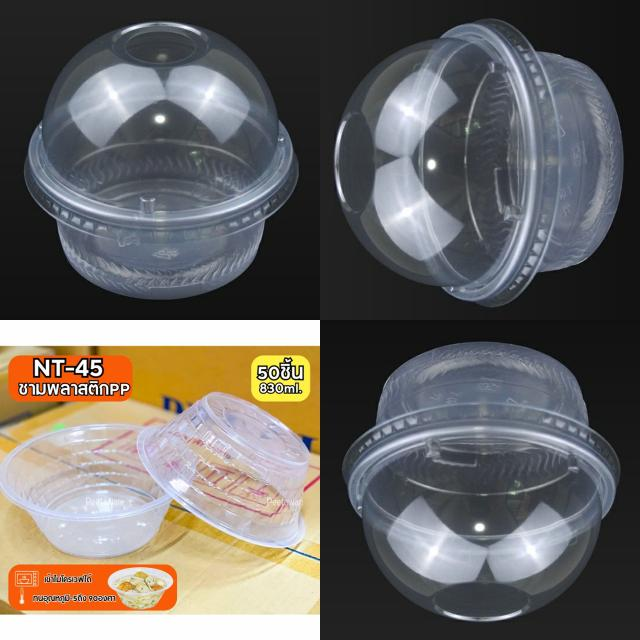Single-Use-Plastic: (335, 20, 622, 306), (344, 344, 619, 621), (25, 22, 299, 298), (138, 392, 310, 547), (0, 424, 171, 558)
